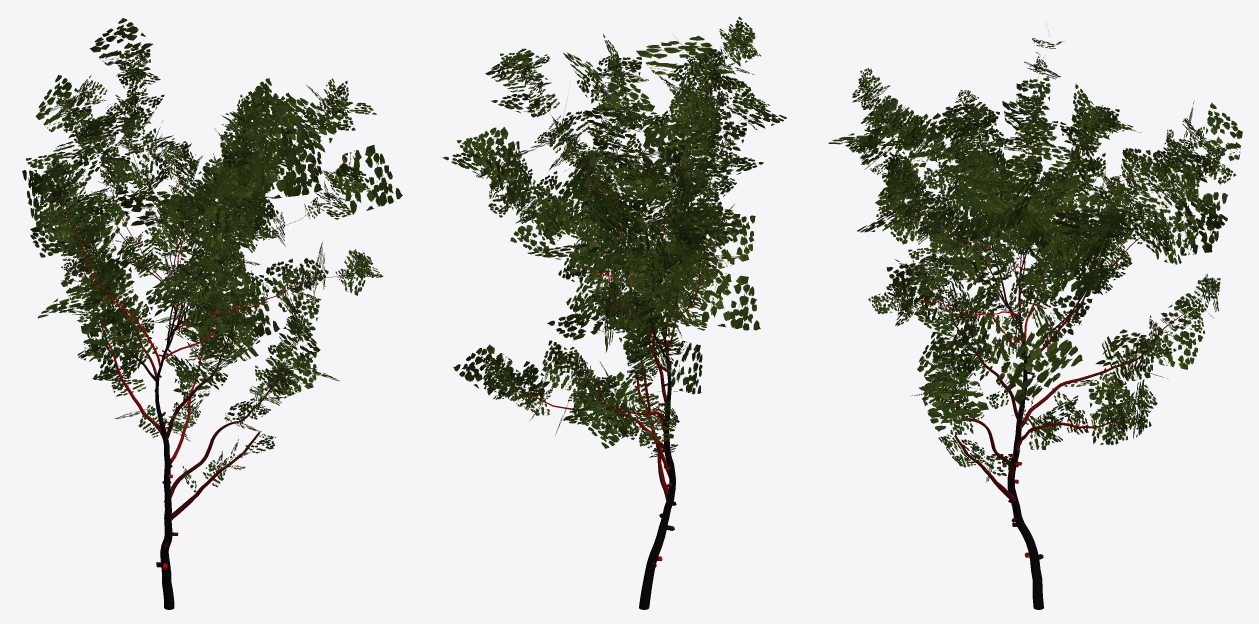
File: Tree_25.fbx
3 views of the same model, side by side, from view 1: azimuth 30°, elevation 25°; view 2: azimuth 150°, elevation 25°; view 3: azimuth 270°, elevation 25° (orthographic).
Parts seen in each view (by area): view 1: Tree_22; view 2: Tree_22; view 3: Tree_22.
Boxes of the visible parts, bbox=[...] form: Tree_22: bbox=[22, 18, 402, 609]; Tree_22: bbox=[442, 16, 786, 609]; Tree_22: bbox=[828, 30, 1242, 609].
Size of the model in its own units: 3852 by 6133 by 4264.
